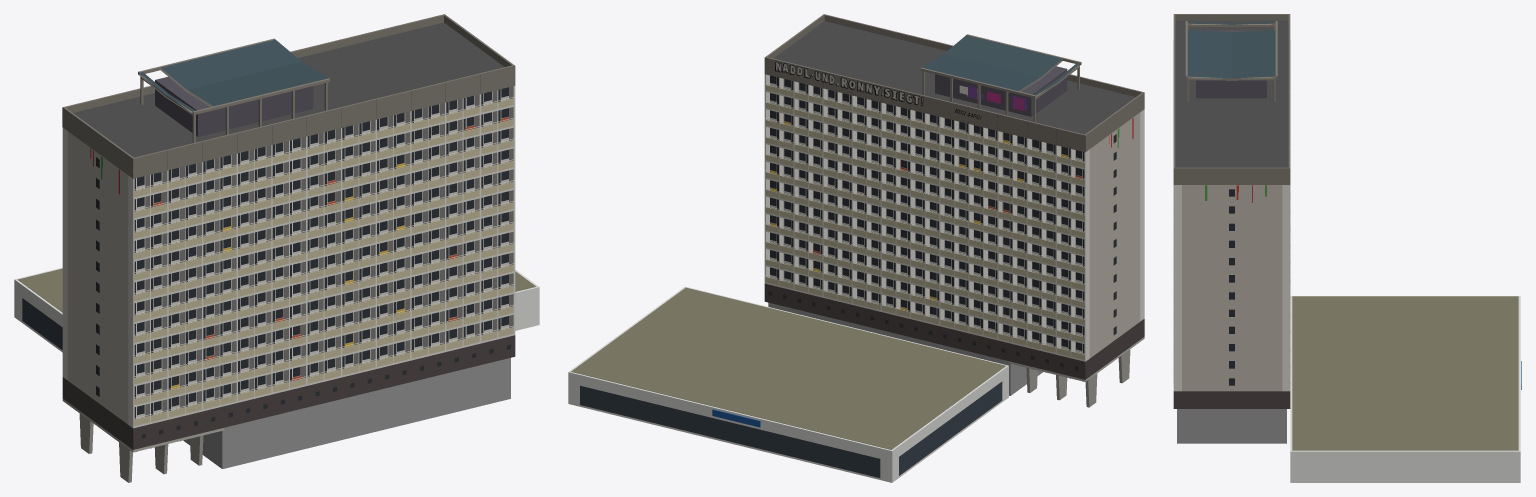
The model's file is hochhaus_pirnaischer.glb.
3 renders of one model, left to right at view 1: azimuth 30°, elevation 25°; view 2: azimuth 150°, elevation 25°; view 3: azimuth 270°, elevation 25°, orthographic. The views are drawn at different scales.
Visible parts, largest first — view 1: Schotten, Panel, Glass, Gable, RoofSkin, EGWall, Attika, LoggiaWall, Sockel, Frame, Rail, RoofPlate (+6 smaller); view 2: ShopRoof, Schotten, Panel, Glass, Gable, RoofSkin, ShopGlass, Attika, LoggiaWall, ShopWhite, Sockel, Frame (+7 smaller); view 3: ShopRoof, Gable, RoofSkin, ShopWhite, RoofPlate, EGWall, Attika, Schotten, Sockel, GraffWall, RoofConcrete, Rail (+1 smaller).
Boxes of the visible parts, x1,y1,x2,y2 form: Schotten: [62, 86, 515, 428]; Panel: [134, 98, 513, 426]; Glass: [96, 87, 510, 438]; Gable: [67, 131, 128, 424]; RoofSkin: [73, 22, 504, 157]; EGWall: [183, 358, 510, 468]; Attika: [62, 14, 514, 178]; LoggiaWall: [136, 91, 508, 418]; Sockel: [62, 335, 515, 451]; Frame: [136, 89, 508, 418]; Rail: [134, 97, 514, 419]; RoofPlate: [140, 39, 327, 111]; ShopRoof: [571, 287, 1005, 449]; Schotten: [764, 74, 1144, 361]; Panel: [765, 85, 1084, 359]; Glass: [768, 75, 1116, 370]; Gable: [1089, 112, 1140, 358]; RoofSkin: [774, 21, 1135, 134]; ShopGlass: [580, 381, 1002, 477]; Attika: [765, 14, 1144, 152]; LoggiaWall: [770, 79, 1082, 353]; ShopWhite: [568, 286, 1008, 482]; Sockel: [764, 283, 1144, 381]; Frame: [770, 77, 1082, 353]; ShopRoof: [1292, 296, 1518, 450]; Gable: [1182, 185, 1282, 391]; RoofSkin: [1175, 20, 1288, 167]; ShopWhite: [1290, 296, 1520, 482]; RoofPlate: [1187, 21, 1275, 78]; EGWall: [1177, 409, 1286, 443]; Attika: [1173, 14, 1290, 184]; Schotten: [1173, 185, 1290, 391]; Sockel: [1173, 391, 1290, 408]; GraffWall: [1196, 30, 1266, 98]; RoofConcrete: [1185, 21, 1277, 101]; Rail: [1173, 40, 1290, 383].
Bounding box in the file's own units: 67.24 × 48.32 × 51.44.
Materials: 30 (1 with a texture image).
